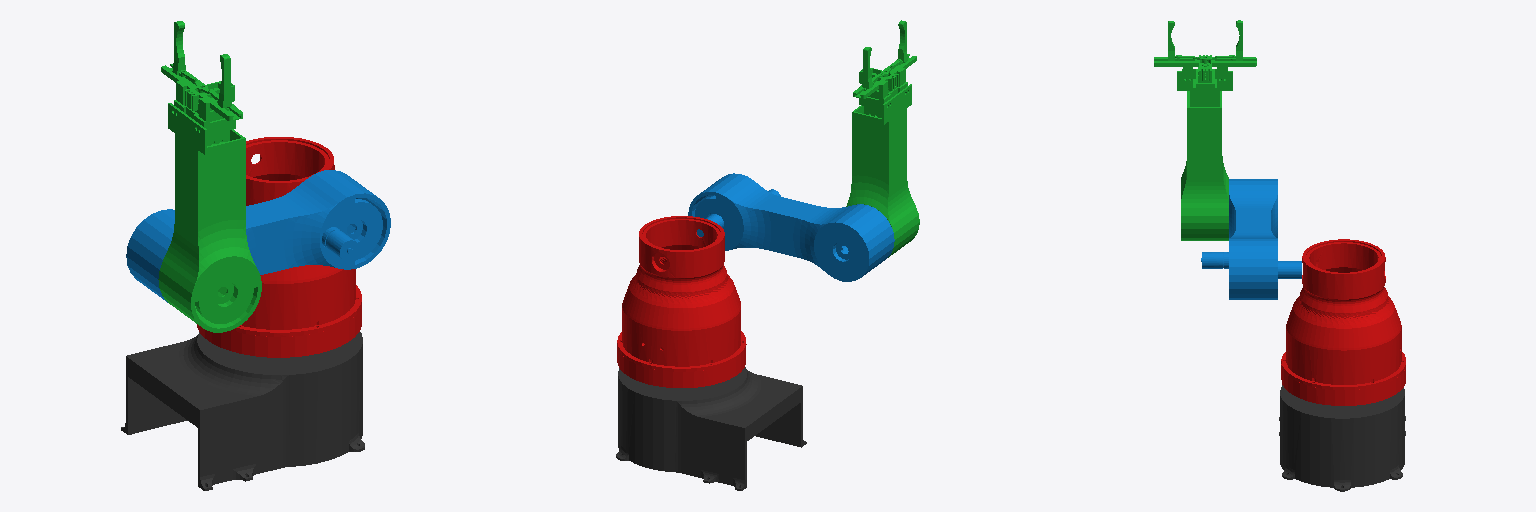
robot.urdf — Corregido:
<?xml version="1.0" encoding="utf-8"?>
<!-- This URDF was automatically created by SolidWorks to URDF Exporter! Originally created by Stephen Brawner (brawner@gmail.com) 
     Commit Version: 1.6.0-4-g7f85cfe  Build Version: 1.6.7995.38578
     For more information, please see http://wiki.ros.org/sw_urdf_exporter -->
<robot
  name="Corregido">
  <link
    name="base_link">
    <inertial>
      <origin
        xyz="-0.0325586406231884 0.000156081646546977 0.0798986449199547"
        rpy="0 0 0" />
      <mass
        value="0.493597596305665" />
      <inertia
        ixx="0.00249042444010258"
        ixy="1.89013850858789E-06"
        ixz="1.18396069039037E-05"
        iyy="0.00309705791419506"
        iyz="-5.70550454718768E-07"
        izz="0.00444715507582301" />
    </inertial>
    <visual>
      <origin
        xyz="0 0 0"
        rpy="0 0 0" />
      <geometry>
        <mesh
          filename="package://Miau/meshes/base_link.STL" />
      </geometry>
      <material
        name="base_link_material">
        <color
          rgba="0.25 0.25 0.25 1" />
      </material>
    </visual>
    <collision>
      <origin
        xyz="0 0 0"
        rpy="0 0 0" />
      <geometry>
        <mesh
          filename="package://Miau/meshes/base_link.STL" />
      </geometry>
    </collision>
  </link>
  <link
    name="L1">
    <inertial>
      <origin
        xyz="0.00011021 0.0034718 0.18954"
        rpy="0 0 0" />
      <mass
        value="1.2503" />
      <inertia
        ixx="0.0039841"
        ixy="2.4766E-06"
        ixz="-3.1699E-06"
        iyy="0.003996"
        iyz="-2.0743E-05"
        izz="0.0053377" />
    </inertial>
    <visual>
      <origin
        xyz="0 0 0"
        rpy="0 0 0" />
      <geometry>
        <mesh
          filename="package://Miau/meshes/L1.STL" />
      </geometry>
      <material
        name="L1_material">
        <color
          rgba="0.85 0.1 0.1 1" />
      </material>
    </visual>
    <collision>
      <origin
        xyz="0 0 0"
        rpy="0 0 0" />
      <geometry>
        <mesh
          filename="package://Miau/meshes/L1.STL" />
      </geometry>
    </collision>
  </link>
  <joint
    name="J1"
    type="continuous">
    <origin
      xyz="0 0 0"
      rpy="0 0 0" />
    <parent
      link="base_link" />
    <child
      link="L1" />
    <axis
      xyz="0 0 -1" />
  </joint>
  <link
    name="L2">
    <inertial>
      <origin
        xyz="0.096796 -0.0014545 0.069802"
        rpy="0 0 0" />
      <mass
        value="0.61222" />
      <inertia
        ixx="0.00072999"
        ixy="1.4848E-09"
        ixz="1.6773E-05"
        iyy="0.0052856"
        iyz="3.9123E-10"
        izz="0.0053029" />
    </inertial>
    <visual>
      <origin
        xyz="0 0 0"
        rpy="0 0 0" />
      <geometry>
        <mesh
          filename="package://Miau/meshes/L2.STL" />
      </geometry>
      <material
        name="L2_material">
        <color
          rgba="0.1 0.55 0.85 1" />
      </material>
    </visual>
    <collision>
      <origin
        xyz="0 0 0"
        rpy="0 0 0" />
      <geometry>
        <mesh
          filename="package://Miau/meshes/L2.STL" />
      </geometry>
    </collision>
  </link>
  <joint
    name="J2"
    type="continuous">
    <origin
      xyz="3.5078E-05 -0.058 0.31418"
      rpy="-1.5708 0 3.1416" />
    <parent
      link="L1" />
    <child
      link="L2" />
    <axis
      xyz="0 0 -1" />
  </joint>
  <link
    name="L3">
    <inertial>
      <origin
        xyz="0.074686 0.0014245 0.09685"
        rpy="0 0 0" />
      <mass
        value="0.43367" />
      <inertia
        ixx="0.00046332"
        ixy="-3.765E-05"
        ixz="6.2733E-08"
        iyy="0.0015707"
        iyz="-4.5092E-08"
        izz="0.0015747" />
    </inertial>
    <visual>
      <origin
        xyz="0 0 0"
        rpy="0 0 0" />
      <geometry>
        <mesh
          filename="package://Miau/meshes/L3.STL" />
      </geometry>
      <material
        name="L3_material">
        <color
          rgba="0.15 0.75 0.25 1" />
      </material>
    </visual>
    <collision>
      <origin
        xyz="0 0 0"
        rpy="0 0 0" />
      <geometry>
        <mesh
          filename="package://Miau/meshes/L3.STL" />
      </geometry>
    </collision>
  </link>
  <joint
    name="J3"
    type="continuous">
    <origin
      xyz="0.20193 -0.0015 0.043"
      rpy="0 0 -1.5708" />
    <parent
      link="L2" />
    <child
      link="L3" />
    <axis
      xyz="0 0 1" />
  </joint>
</robot>

--- Render facts (derived) ---
3 views of the same robot in one strip: view 1: azimuth 30°, elevation 25°; view 2: azimuth 150°, elevation 25°; view 3: azimuth 270°, elevation 25° (orthographic).
Robot: Corregido — 4 links, 3 joints (3 continuous); root link base_link; default pose: all joints at 0.
Links seen in each view (by area): view 1: base_link, L3, L1, L2; view 2: L1, base_link, L2, L3; view 3: L1, base_link, L3, L2.
Link boxes in pixels (x1=…): base_link: x1=121, y1=332, x2=364, y2=490; L3: x1=158, y1=21, x2=261, y2=332; L1: x1=197, y1=137, x2=361, y2=357; L2: x1=126, y1=170, x2=390, y2=302; L1: x1=617, y1=216, x2=746, y2=387; base_link: x1=616, y1=367, x2=806, y2=490; L2: x1=688, y1=173, x2=894, y2=281; L3: x1=846, y1=20, x2=919, y2=257; L1: x1=1281, y1=239, x2=1405, y2=405; base_link: x1=1279, y1=385, x2=1405, y2=491; L3: x1=1154, y1=20, x2=1256, y2=240; L2: x1=1201, y1=179, x2=1301, y2=299.
Bounding box of the posed robot: 0.3482 × 0.3638 × 0.5996 m (x, y, z).
4 mesh visuals loaded from 4 distinct referenced files (4 binary STL).
